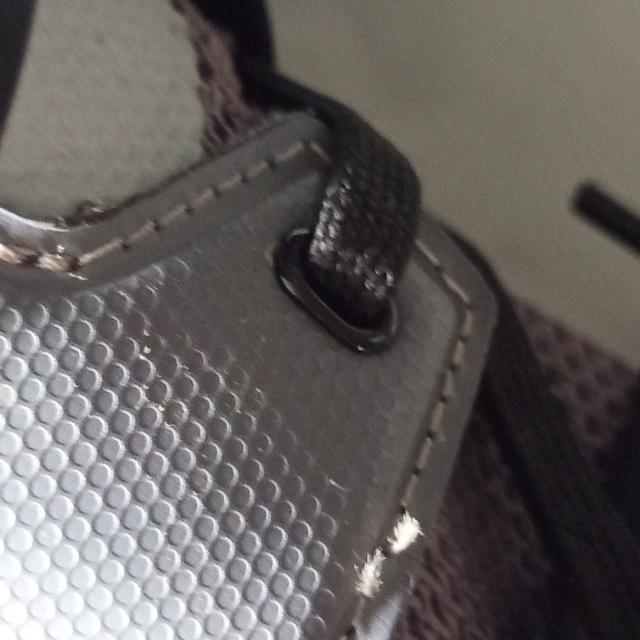broken: (347, 496, 434, 602)
